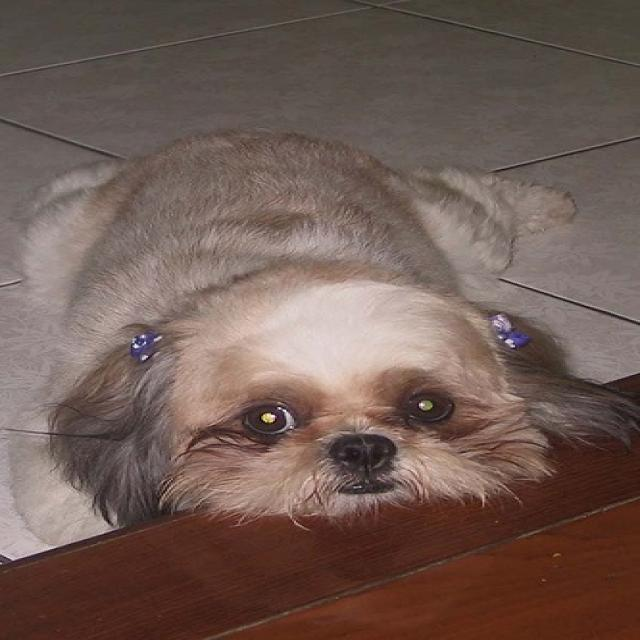dog: (7, 129, 624, 558)
